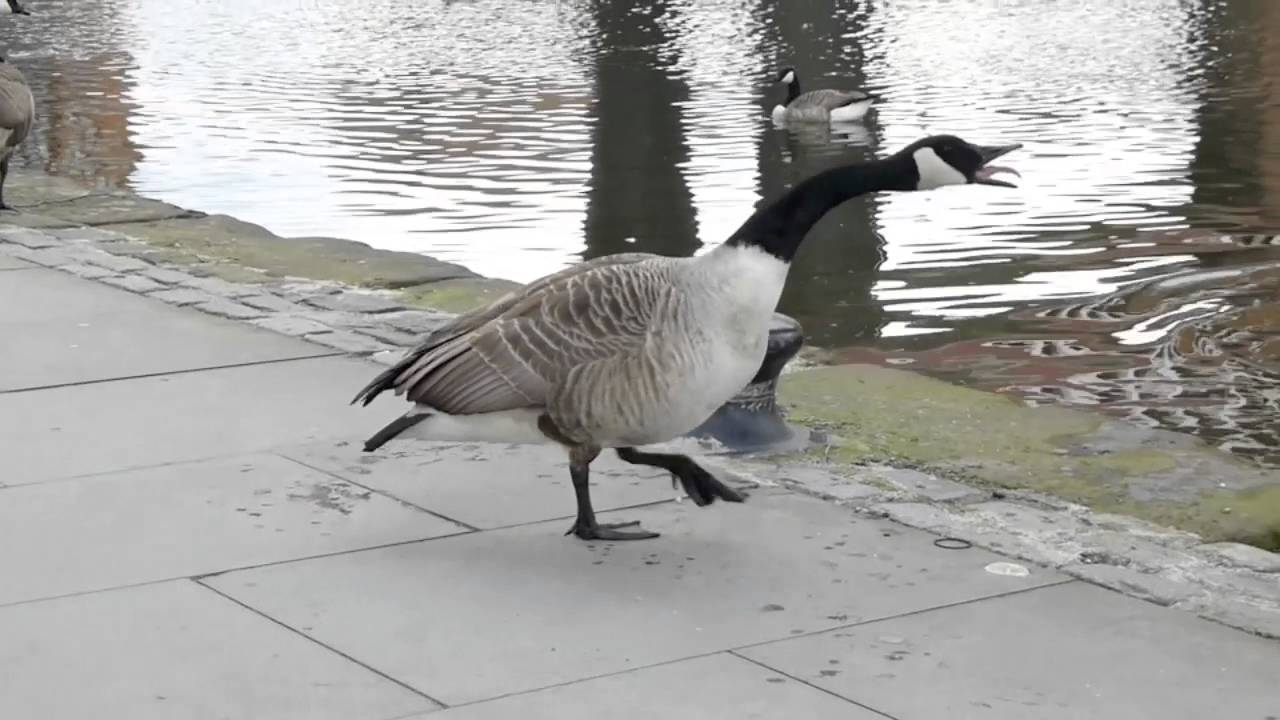goose: (304, 129, 1038, 552), (1, 1, 41, 231), (763, 66, 885, 130)
